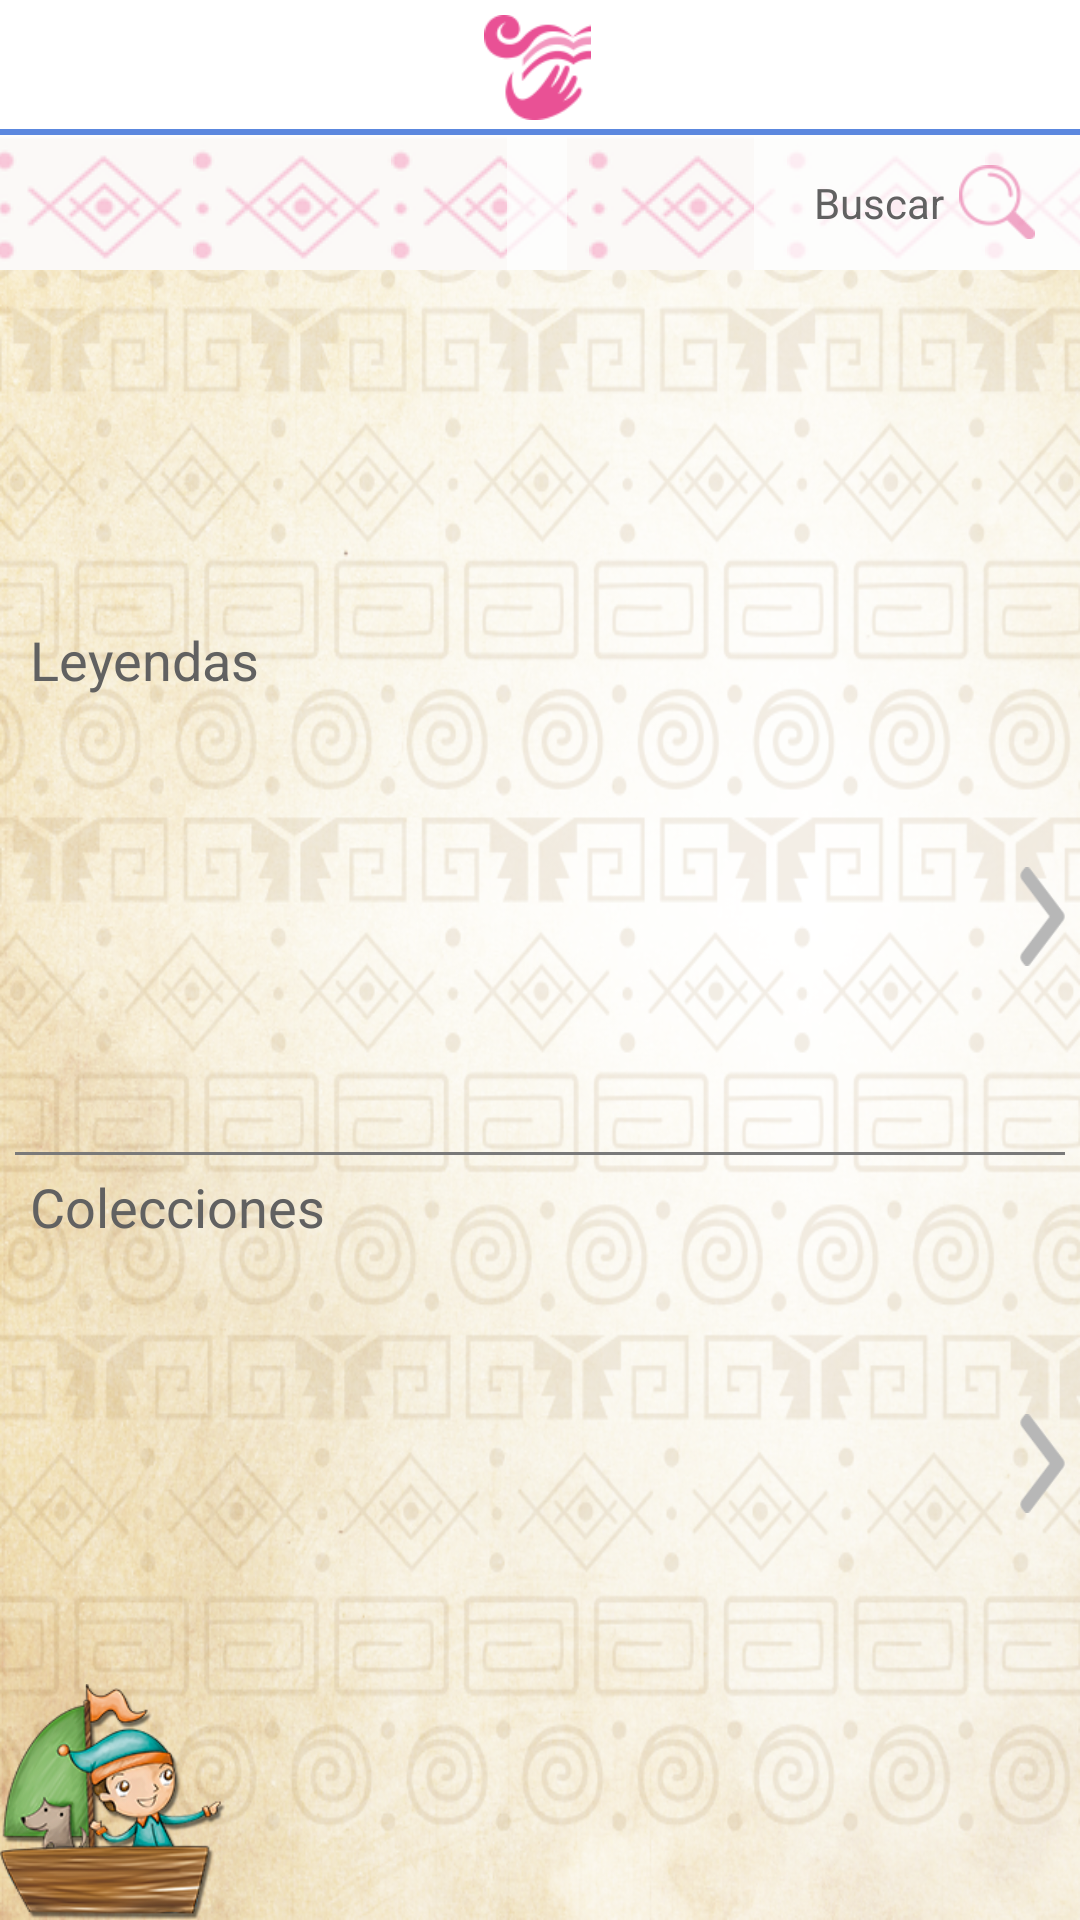

Icon click points for this 1080*1920 phone screenshot, format (x,y):
nino barco: (112,1802)
right arrow: (1048,916), (1043,1463)
